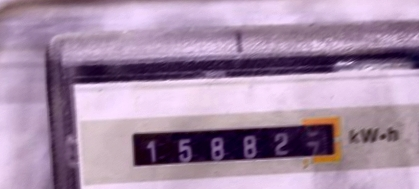1: (145, 133, 160, 163)
2: (272, 128, 290, 155)
5: (176, 134, 195, 164)
7: (306, 136, 319, 154)
8: (208, 132, 226, 161), (241, 130, 259, 159)
screen: (121, 106, 349, 177)
